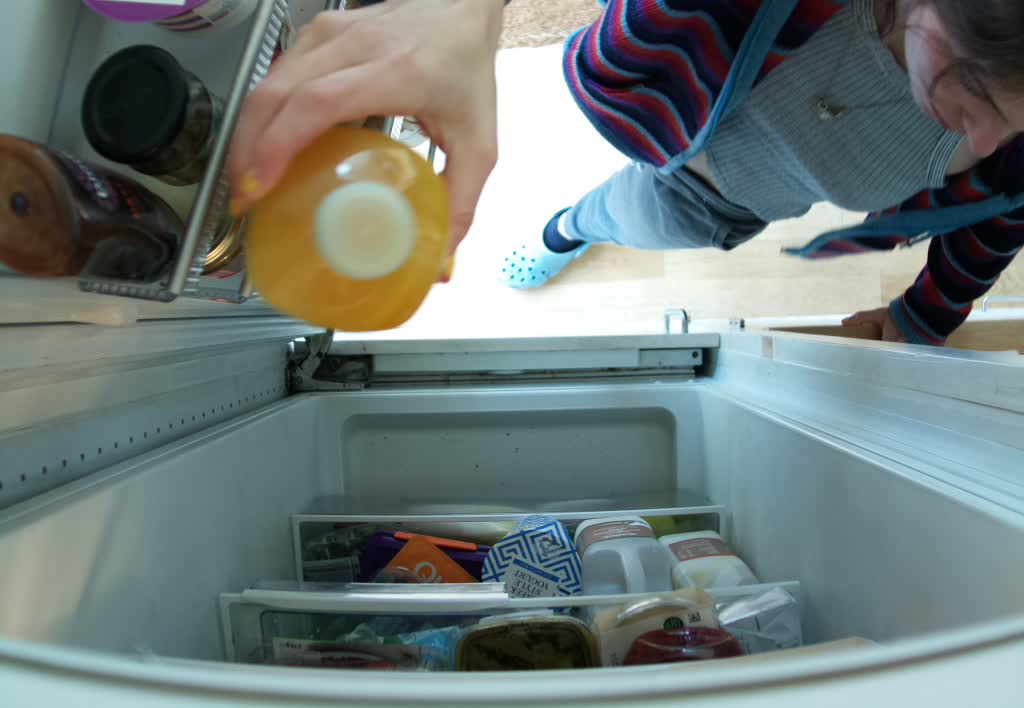juice: (252, 119, 447, 338)
